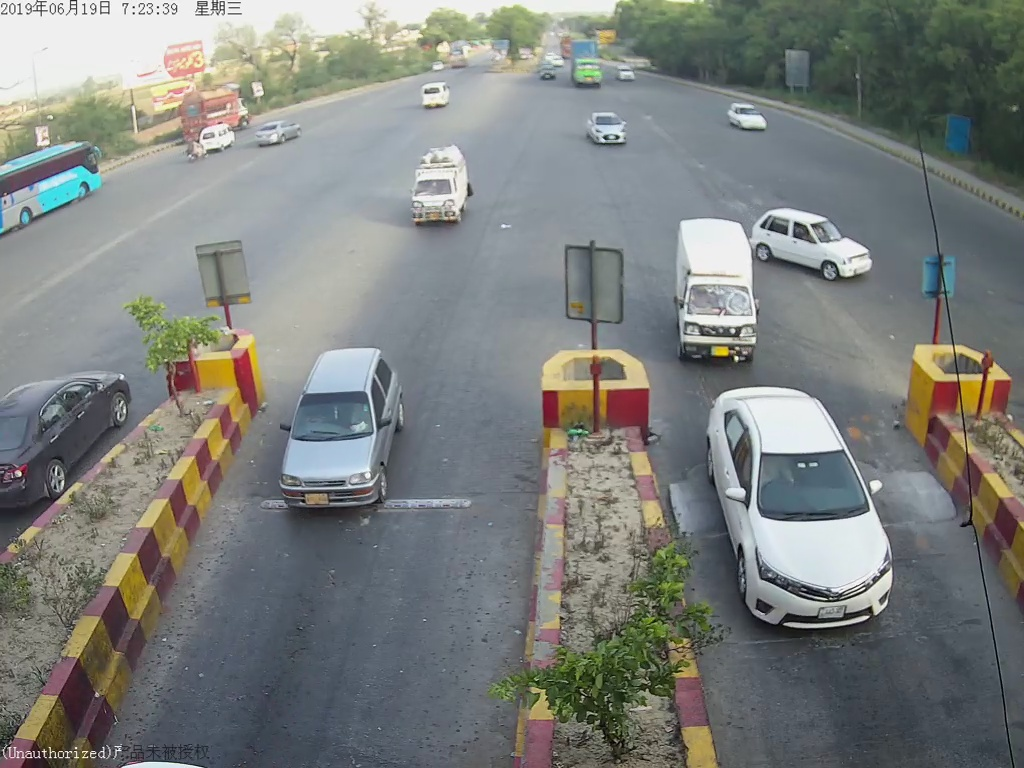Cat-1: (703, 384, 922, 647), (276, 336, 409, 522), (669, 222, 764, 376), (407, 147, 479, 238)
